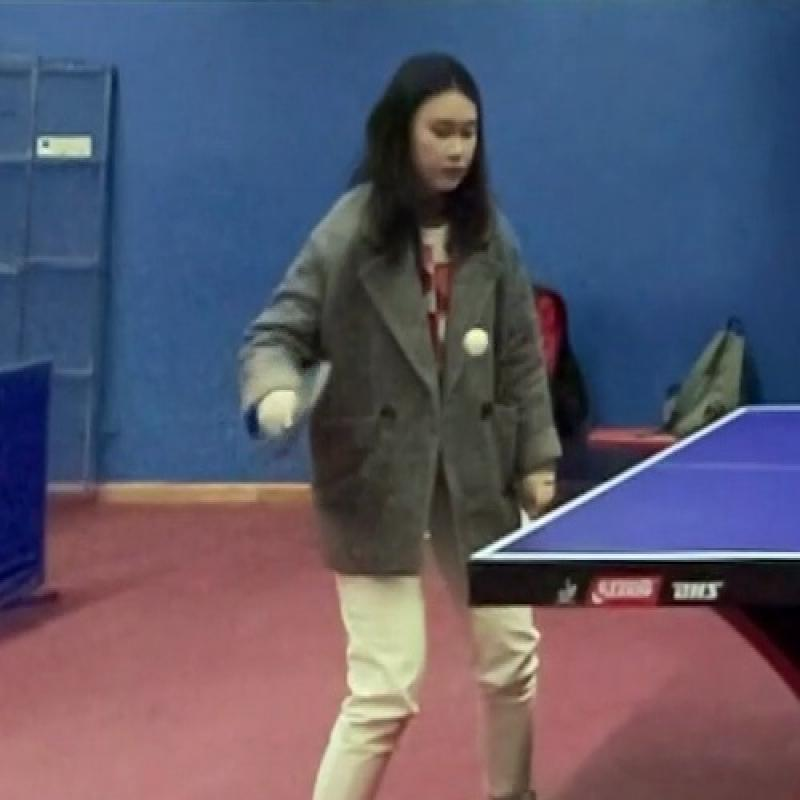bats: (250, 340, 344, 459)
